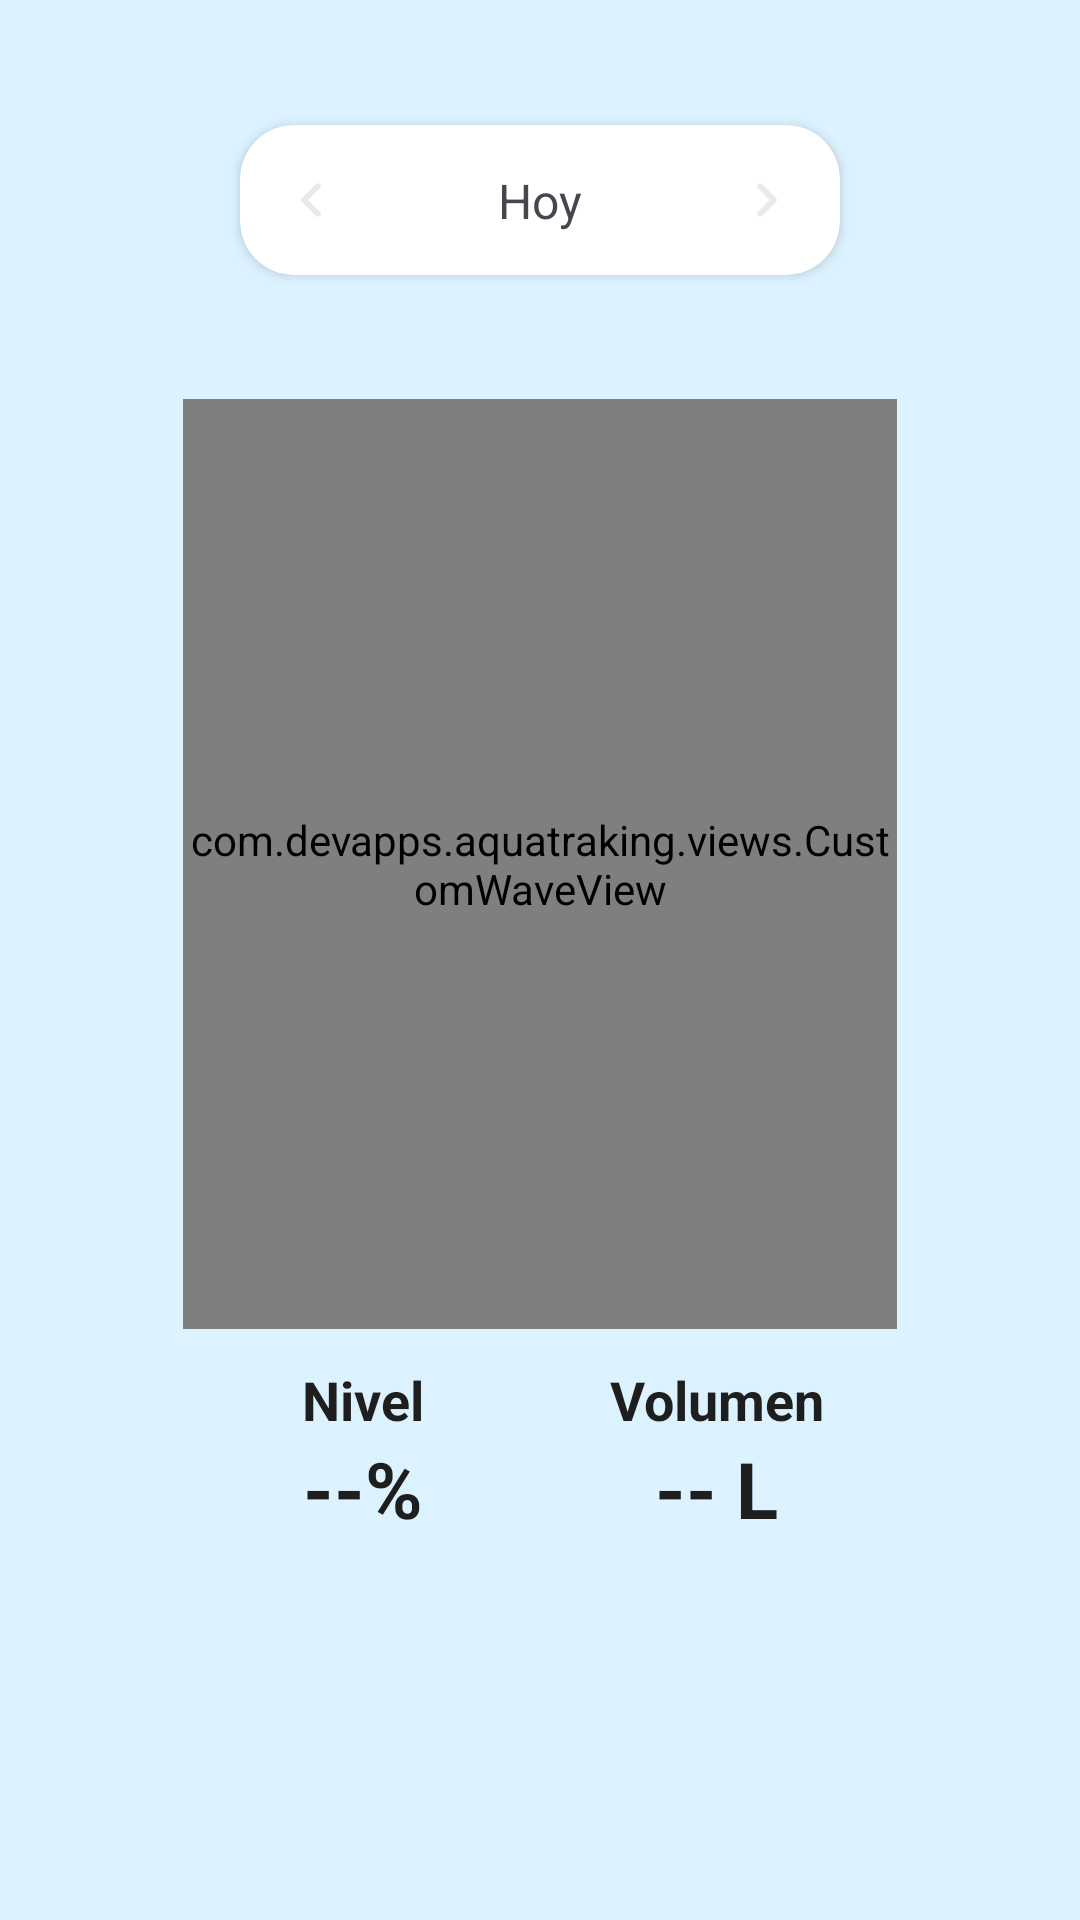

Icon click points for this 1080px×1920px phone screenshot, format [x,y]:
chevron left: [312,200]
chevron right: [768,200]
